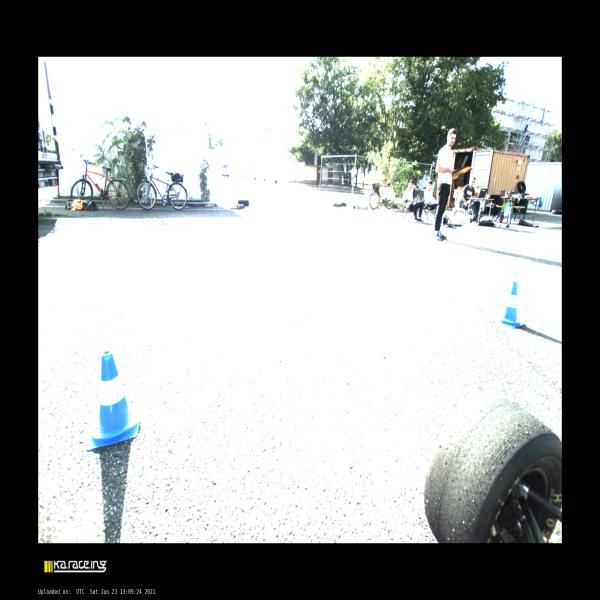blue_cone: (85, 350, 140, 450), (500, 280, 525, 328)
